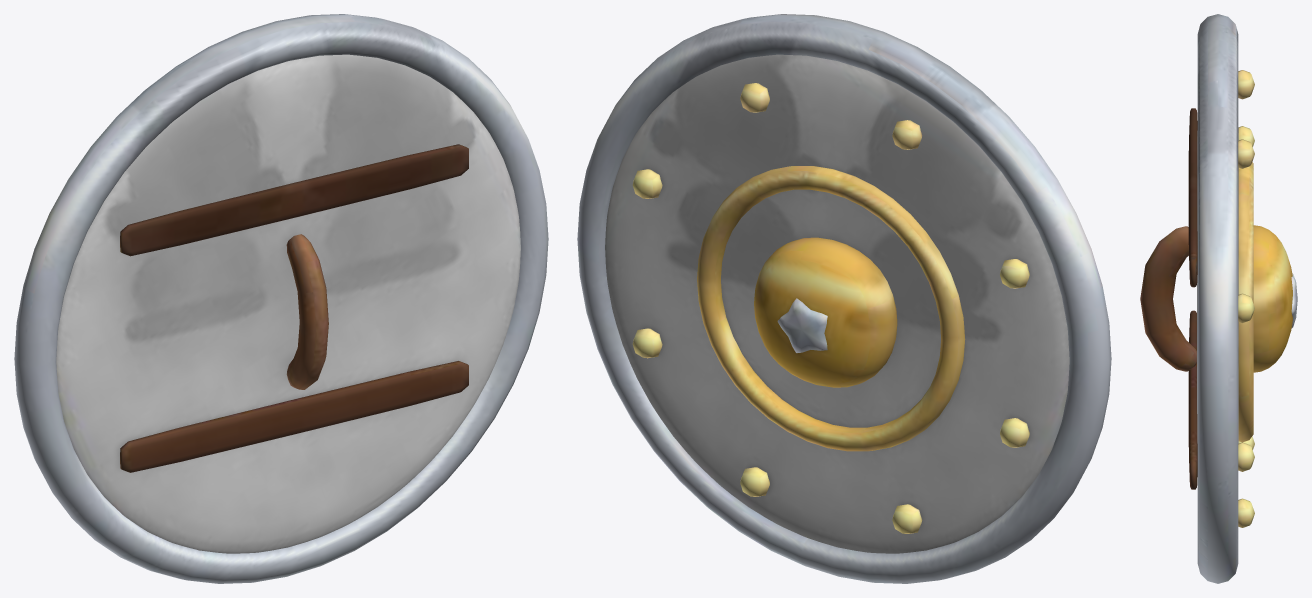
File: tank_shield.glb
3 renders of one model, left to right at view 1: azimuth 30°, elevation 25°; view 2: azimuth 150°, elevation 25°; view 3: azimuth 270°, elevation 25°, orthographic. The views are drawn at different scales.
Parts seen in each view (by area): view 1: tank_shield; view 2: tank_shield; view 3: tank_shield.
Boxes of the visible parts, <box> form: tank_shield: <box>14,14,548,583</box>; tank_shield: <box>577,14,1111,583</box>; tank_shield: <box>1140,14,1297,583</box>.
Bounding box in the file's own units: 0.8169 × 0.8169 × 0.2255.
Materials: 1 (1 with a texture image).
